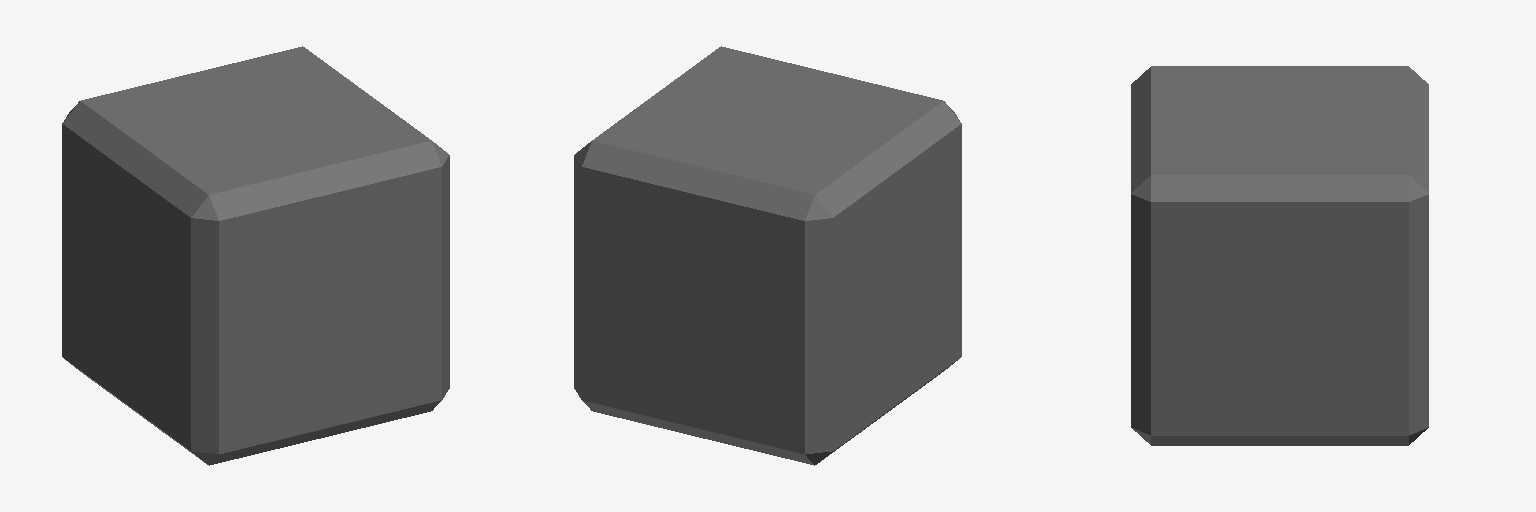
File: player01.obj
The picture shows the model from 3 angles: view 1: azimuth 30°, elevation 25°; view 2: azimuth 150°, elevation 25°; view 3: azimuth 270°, elevation 25°; orthographic projection.
Visible parts, largest first — view 1: Player; view 2: Player; view 3: Player.
Part boxes in pixels (left/top/right/bottom): Player: left=62, top=46, right=449, bottom=465; Player: left=574, top=46, right=961, bottom=465; Player: left=1131, top=66, right=1428, bottom=445.
Bounding box in the file's own units: 1.04 × 1.04 × 1.04.